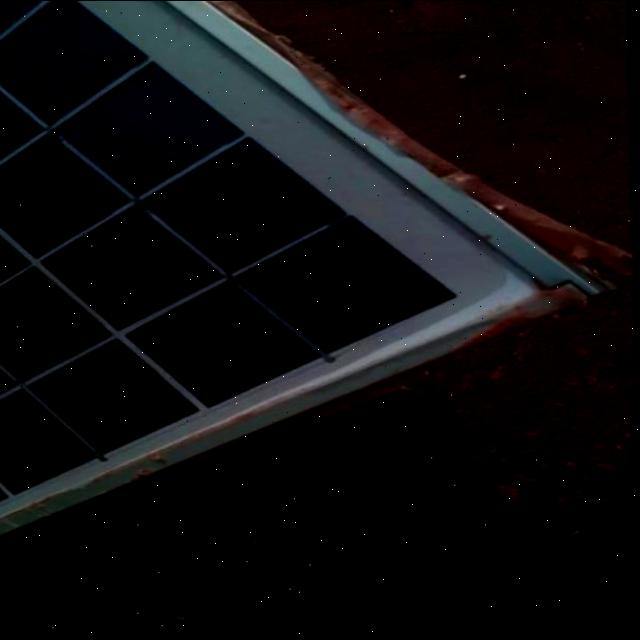Normal Solar Panel: (0, 0, 612, 571)
